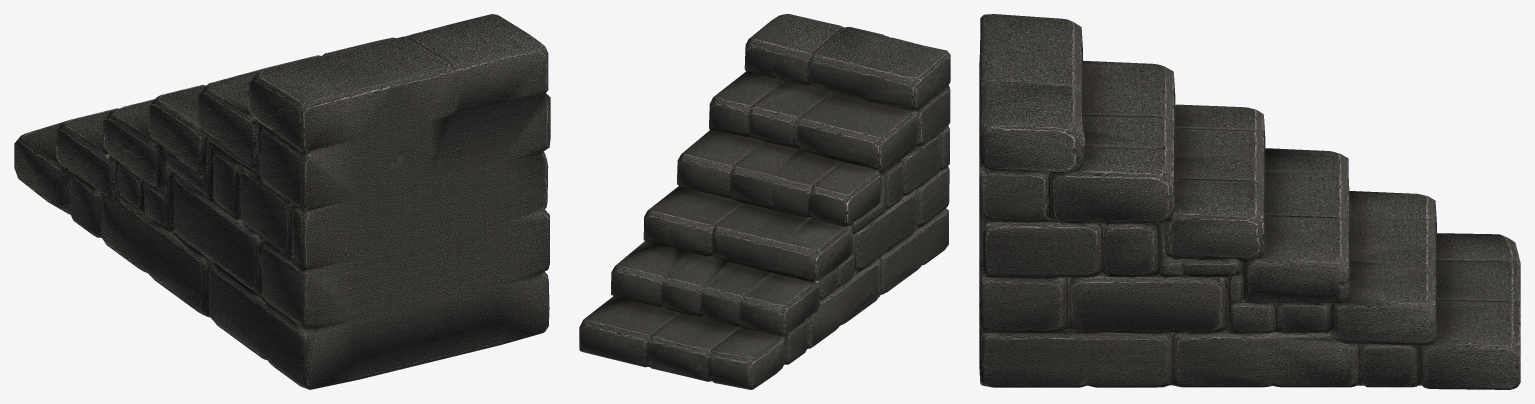
The model's file is Stairscase_01.fbx.
3 renders of one model, left to right at view 1: azimuth 30°, elevation 25°; view 2: azimuth 150°, elevation 25°; view 3: azimuth 270°, elevation 25°, orthographic. The views are drawn at different scales.
Parts seen in each view (by area): view 1: Stairs_01; view 2: Stairs_01; view 3: Stairs_01.
Boxes of the visible parts, <box> form: Stairs_01: <box>14,14,550,389</box>; Stairs_01: <box>579,14,950,389</box>; Stairs_01: <box>979,14,1520,389</box>.
Size of the model in its own units: 311 by 338 by 627.
